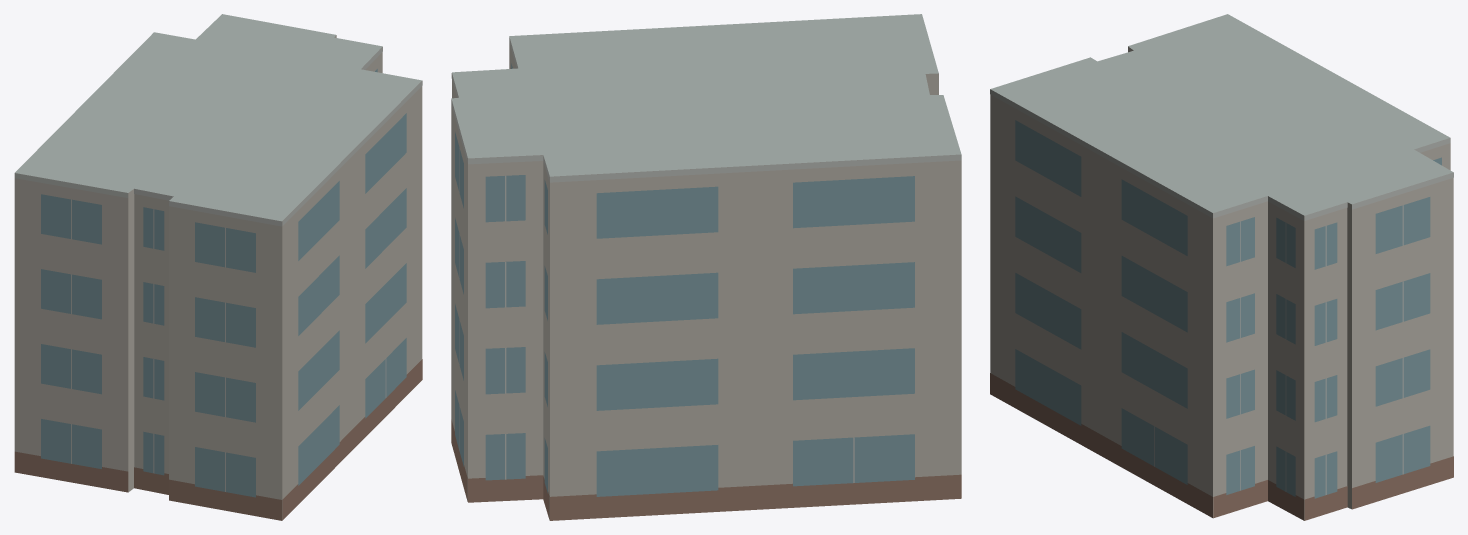
Rendered from survey-upis-32774341.glb.
3 renders of one model, left to right at view 1: azimuth 30°, elevation 25°; view 2: azimuth 150°, elevation 25°; view 3: azimuth 270°, elevation 25°, orthographic. The views are drawn at different scales.
Parts seen in each view (by area): view 1: survey-upis-32774341.tmp; view 2: survey-upis-32774341.tmp; view 3: survey-upis-32774341.tmp.
Boxes of the visible parts, x1,y1,x2,y2 form: survey-upis-32774341.tmp: [14, 14, 422, 520]; survey-upis-32774341.tmp: [451, 14, 961, 520]; survey-upis-32774341.tmp: [990, 14, 1453, 520].
Size of the model in its own units: 19.91 by 14.03 by 19.33.
